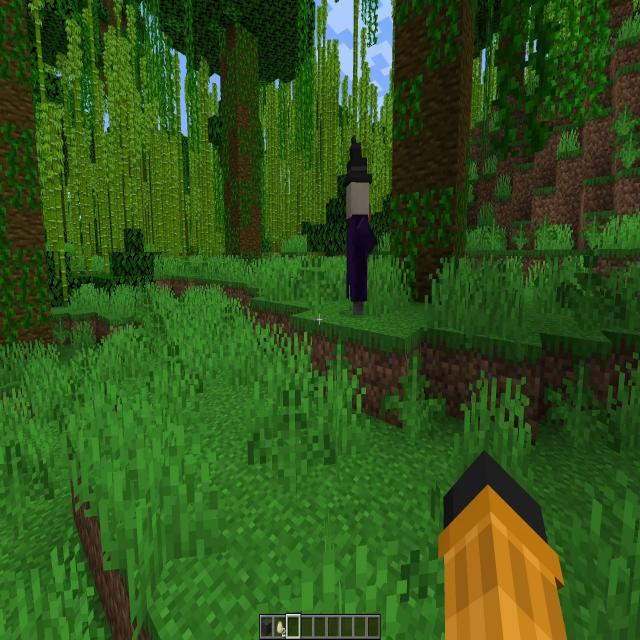Witch: (347, 150, 373, 314)
